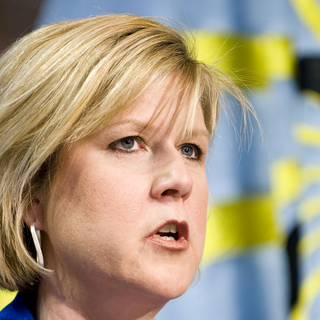eye: (104, 131, 151, 158), (146, 225, 191, 252), (169, 136, 208, 163)
